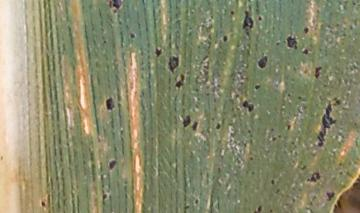tarspot: (315, 95, 341, 148), (240, 9, 254, 30), (166, 53, 180, 73), (285, 32, 298, 51), (107, 1, 123, 14), (305, 171, 321, 184), (104, 96, 116, 113), (174, 73, 186, 89), (256, 54, 268, 69), (241, 99, 254, 112), (181, 113, 191, 129), (313, 65, 323, 80), (107, 158, 118, 171), (325, 190, 336, 202), (251, 204, 263, 213), (154, 46, 162, 58), (190, 120, 198, 132), (101, 192, 108, 205), (128, 31, 137, 40), (253, 83, 262, 91), (221, 34, 229, 43), (301, 47, 309, 56), (214, 121, 221, 130), (302, 25, 309, 34), (270, 135, 277, 143), (337, 169, 344, 177), (348, 23, 354, 32), (216, 166, 221, 176), (267, 206, 274, 213), (248, 155, 255, 162), (40, 200, 46, 208), (229, 9, 235, 17), (193, 197, 199, 205), (285, 91, 291, 99), (257, 14, 262, 23), (286, 123, 291, 132), (270, 178, 275, 187), (315, 7, 320, 16), (296, 94, 302, 101), (274, 40, 281, 46), (245, 128, 252, 134), (269, 127, 275, 133), (334, 22, 340, 28), (1, 154, 5, 162), (350, 1, 356, 6), (102, 38, 106, 45), (246, 1, 251, 3)
